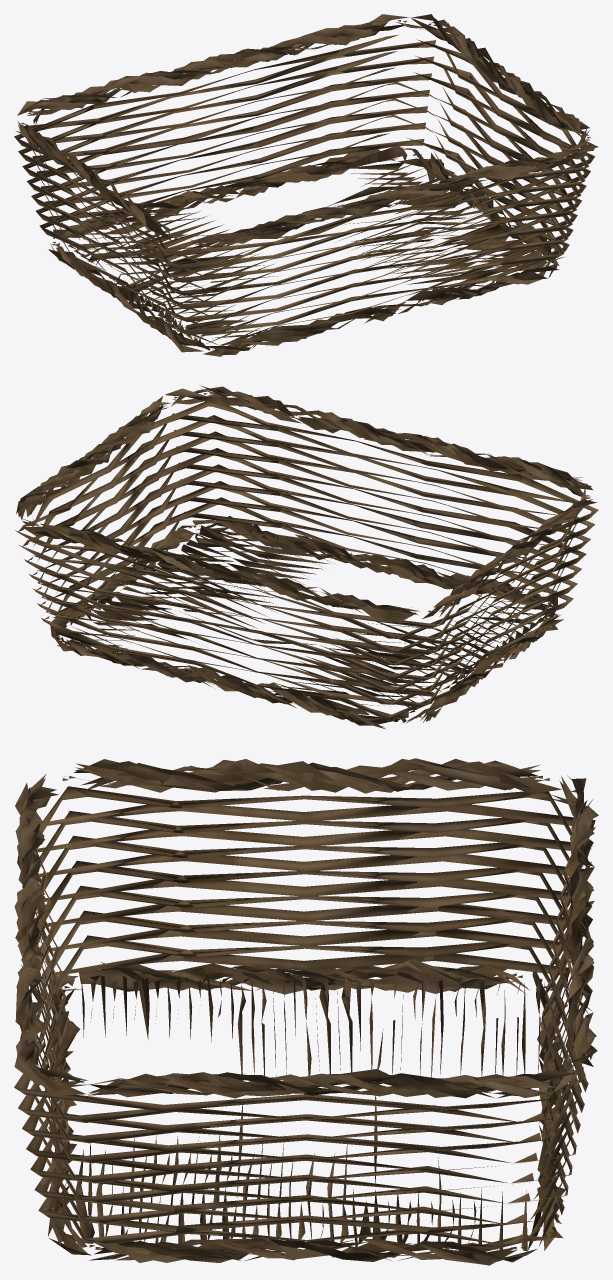
File: wicker_basket_01.glb
The picture shows the model from 3 angles, top to bottom: view 1: azimuth 30°, elevation 25°; view 2: azimuth 150°, elevation 25°; view 3: azimuth 270°, elevation 25°; orthographic projection. The views are drawn at different scales.
Visible parts, largest first — view 1: wicker_basket_01; view 2: wicker_basket_01; view 3: wicker_basket_01.
Part boxes in pixels (<box>): wicker_basket_01: <box>14,14,598,356</box>; wicker_basket_01: <box>15,385,598,729</box>; wicker_basket_01: <box>14,758,598,1265</box>.
Bounding box in the file's own units: 0.383 × 0.1185 × 0.2933.
Materials: 1 (1 with a texture image).
